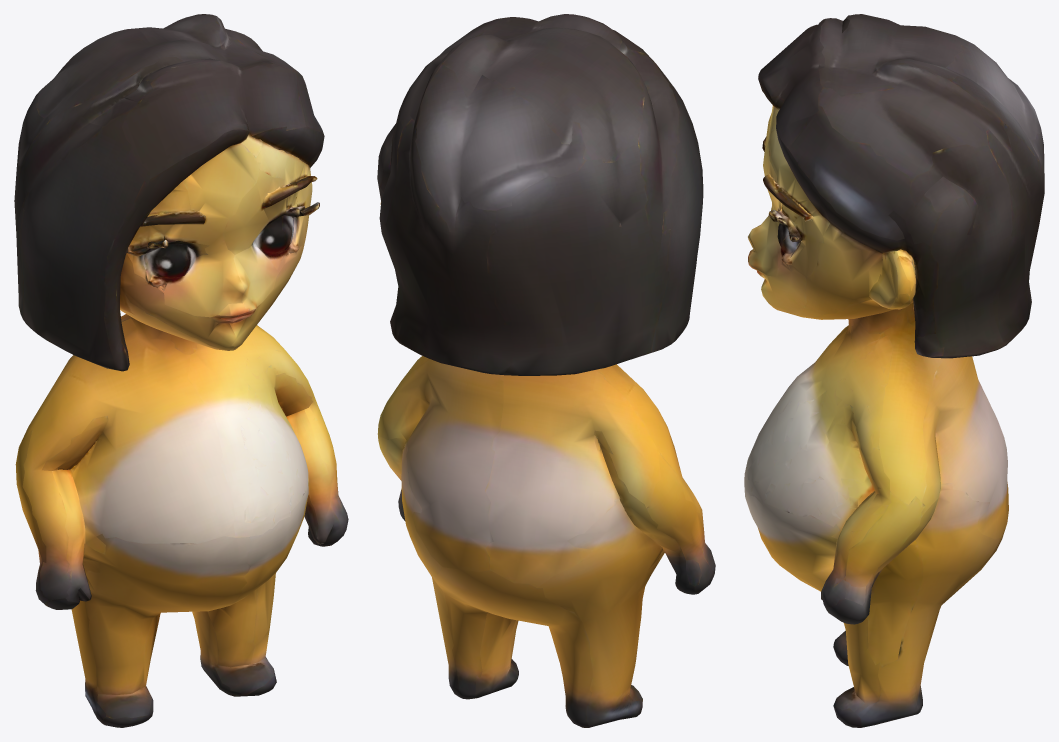
Rendered from naiwa_dounai_runtime.glb.
3 views of the same model, side by side, from view 1: azimuth 30°, elevation 25°; view 2: azimuth 150°, elevation 25°; view 3: azimuth 270°, elevation 25° (orthographic). The views are drawn at different scales.
Visible parts, largest first — view 1: geometry_0; view 2: geometry_0; view 3: geometry_0.
Boxes of the visible parts, box(x1,y1,x2,y2) form: geometry_0: box(14, 14, 348, 727); geometry_0: box(377, 14, 715, 727); geometry_0: box(744, 14, 1044, 727).
Bounding box in the file's own units: 0.0581 × 0.1199 × 0.0499.
Materials: 1 (1 with a texture image).
